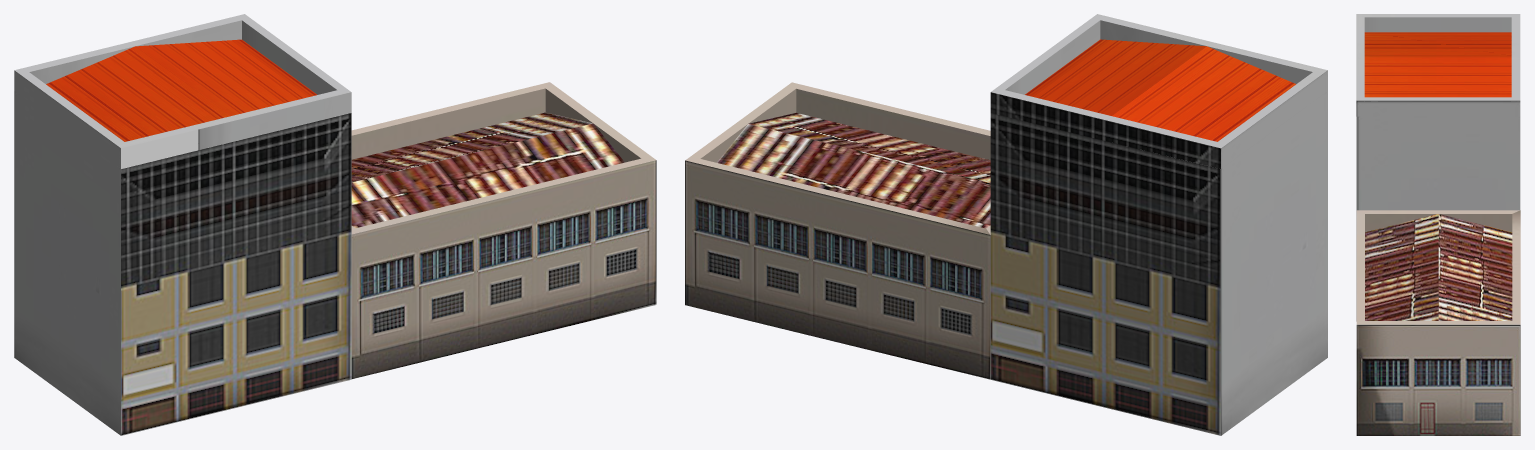
Rendered from monoblockbloqueizquierdo.fbx.
3 renders of one model, left to right at view 1: azimuth 30°, elevation 25°; view 2: azimuth 150°, elevation 25°; view 3: azimuth 270°, elevation 25°, orthographic. The views are drawn at different scales.
Visible parts, largest first — view 1: Cube, Cube.008; view 2: Cube, Cube.008; view 3: Cube.008, Cube.
Part boxes in pixels (x1,y1,x2,y2): Cube: (14,14,351,435); Cube.008: (351,82,656,378); Cube: (990,14,1327,435); Cube.008: (685,82,990,379); Cube.008: (1356,210,1520,435); Cube: (1356,14,1520,321).
Size of the model in its own units: 579 by 297 by 200.
